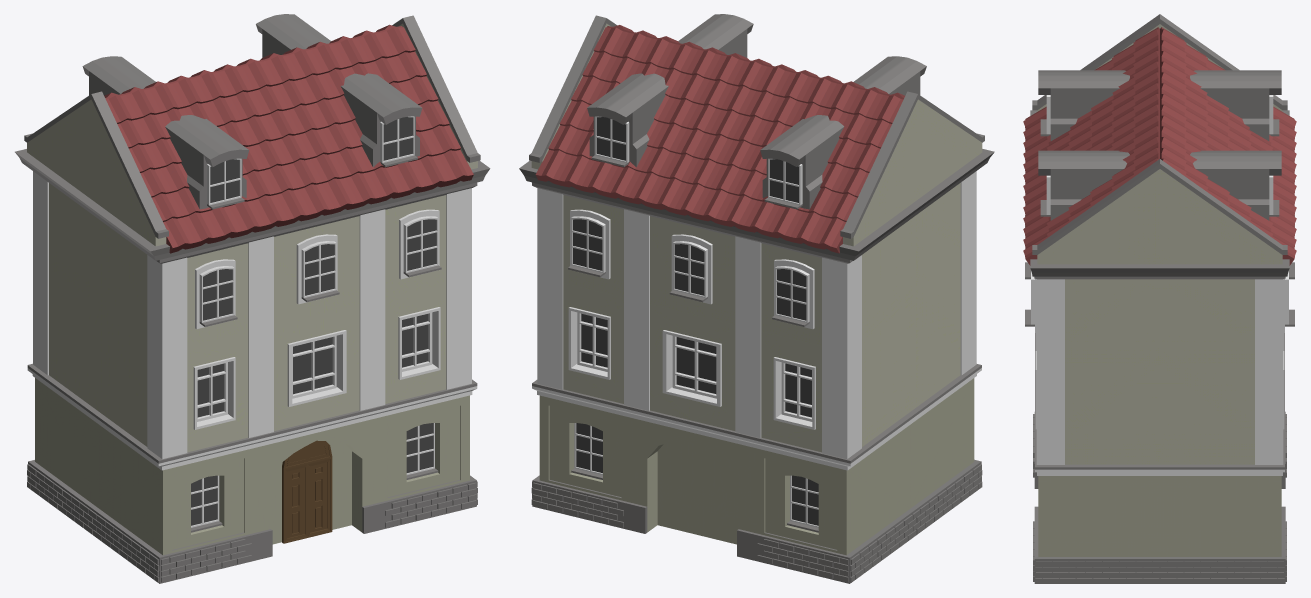
Rendered from quaternius_cc0-small-building-742.glb.
3 views of the same model, side by side, from view 1: azimuth 30°, elevation 25°; view 2: azimuth 150°, elevation 25°; view 3: azimuth 270°, elevation 25° (orthographic). The views are drawn at different scales.
Visible parts, largest first — view 1: Building1_Small; view 2: Building1_Small; view 3: Building1_Small.
Part boxes in pixels (box(x1,y1,x2,y2)): Building1_Small: box(15, 14, 490, 583); Building1_Small: box(519, 14, 994, 583); Building1_Small: box(1023, 14, 1296, 583).
Bounding box in the file's own units: 3.75 × 4.66 × 2.74.
Materials: 1 (1 with a texture image).
